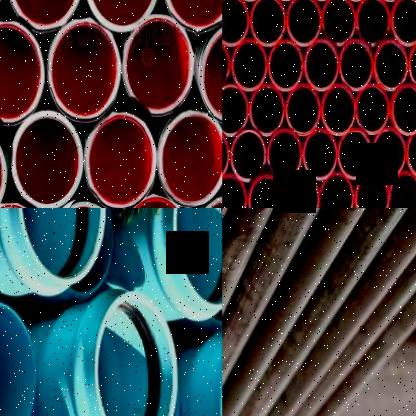pipe: (94, 292, 176, 416), (48, 17, 121, 123), (122, 15, 194, 117), (10, 110, 83, 208), (84, 111, 157, 208), (16, 208, 107, 285), (158, 109, 222, 207), (173, 208, 222, 308), (0, 21, 45, 126), (0, 301, 37, 416), (198, 22, 222, 127), (7, 0, 82, 32), (83, 0, 160, 31), (162, 0, 222, 34), (231, 40, 268, 91), (285, 84, 321, 136), (249, 84, 285, 136), (337, 128, 372, 180), (231, 130, 266, 181), (267, 129, 302, 180), (321, 84, 356, 135), (268, 40, 303, 91), (303, 128, 337, 180), (373, 40, 408, 90), (304, 40, 339, 90), (339, 40, 373, 91), (372, 128, 406, 178), (250, 0, 286, 47), (286, 0, 322, 47), (356, 84, 389, 134), (356, 0, 391, 47), (322, 0, 356, 47), (222, 84, 249, 137), (354, 171, 390, 208), (284, 172, 320, 208), (391, 84, 416, 135), (222, 0, 249, 47), (320, 172, 354, 208), (390, 0, 416, 46), (249, 175, 284, 208), (120, 194, 190, 208), (389, 171, 416, 207), (222, 174, 247, 208), (406, 128, 416, 178), (408, 40, 416, 91), (223, 40, 230, 91)
